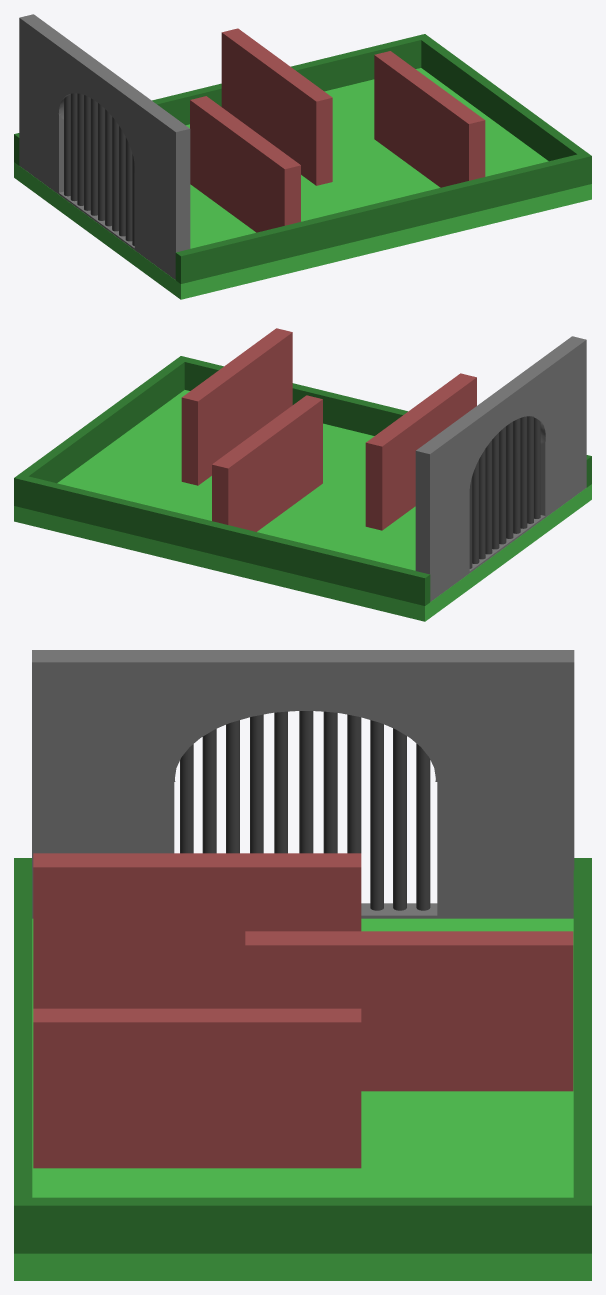
Rendered from Stage0105.fbx.
3 renders of one model, top to bottom at view 1: azimuth 30°, elevation 25°; view 2: azimuth 150°, elevation 25°; view 3: azimuth 270°, elevation 25°, orthographic. The views are drawn at different scales.
Visible parts, largest first — view 1: pasted__pCube7, pasted__pCube8 (×2), pCube6, pCube8, pasted__pCylinder2; view 2: pasted__pCube7, pCube6, pasted__pCube8 (×2), pCube8, pasted__pCylinder2; view 3: pasted__pCube7, pCube6, pasted__pCube8 (×2), pCube8, pasted__pCylinder2.
Part boxes in pixels (<box>): pasted__pCube7: <box>14,34,591,299</box>; pasted__pCube8 (×2): <box>190,28,332,232</box>; pCube6: <box>19,14,190,279</box>; pCube8: <box>374,51,485,187</box>; pasted__pCylinder2: <box>64,93,134,245</box>; pasted__pCube7: <box>14,356,591,621</box>; pCube6: <box>415,336,586,601</box>; pasted__pCube8 (×2): <box>212,373,476,531</box>; pCube8: <box>181,328,292,485</box>; pasted__pCylinder2: <box>469,416,540,568</box>; pasted__pCube7: <box>14,858,591,1280</box>; pCube6: <box>32,650,574,918</box>; pasted__pCube8 (×2): <box>33,853,573,1091</box>; pCube8: <box>33,1008,361,1168</box>; pasted__pCylinder2: <box>180,711,430,910</box>.
Size of the model in its own units: 22.4 by 8.52 by 15.75.
